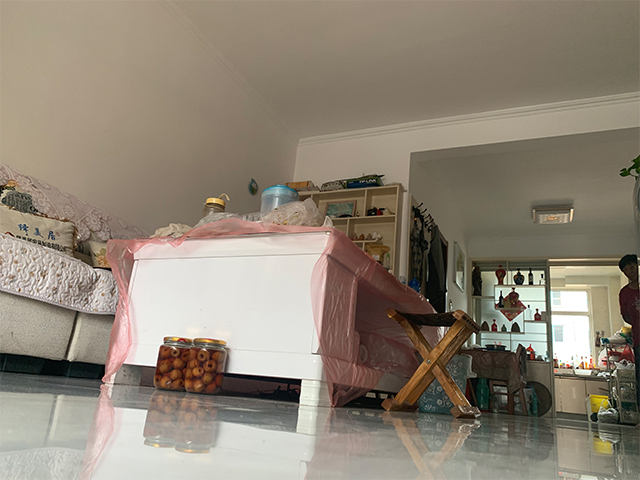cabinet: (555, 372, 614, 422)
sofa: (1, 163, 151, 381)
stool: (379, 308, 484, 418), (491, 343, 529, 417)
table: (104, 226, 445, 409)
trashcan: (415, 351, 474, 413)
